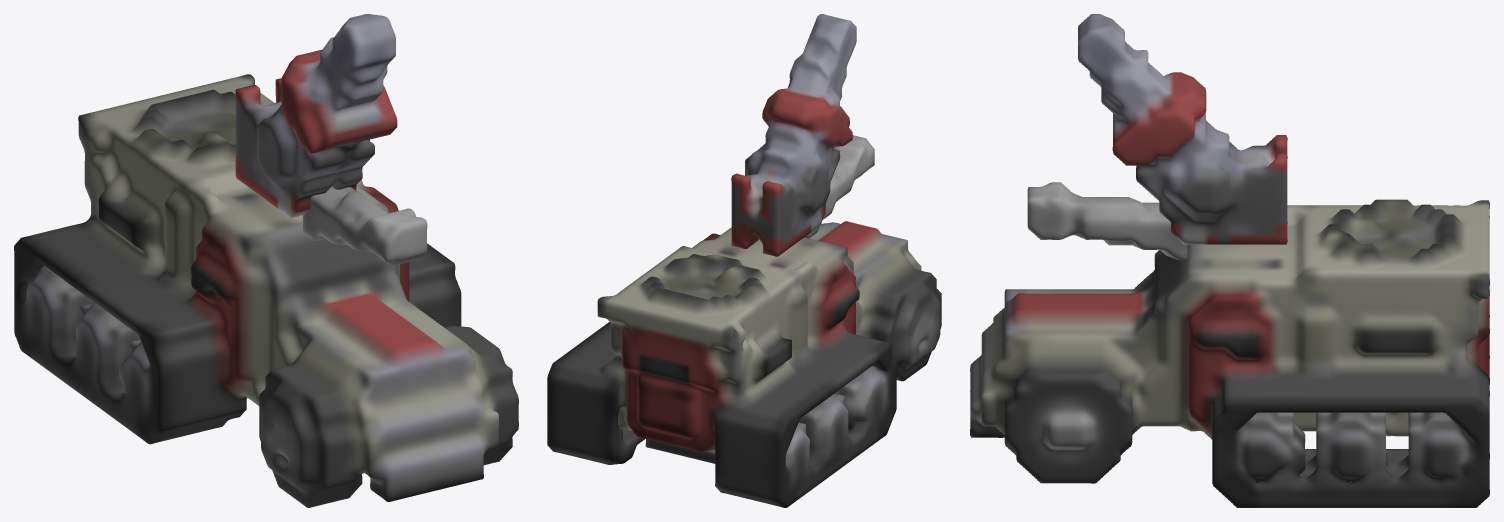
File: flak_track.glb
3 renders of one model, left to right at view 1: azimuth 30°, elevation 25°; view 2: azimuth 150°, elevation 25°; view 3: azimuth 270°, elevation 25°, orthographic. The views are drawn at different scales.
Visible parts, largest first — view 1: flak_track; view 2: flak_track; view 3: flak_track.
Boxes of the visible parts, x1=… form: flak_track: x1=14, y1=14, x2=518, y2=507; flak_track: x1=547, y1=14, x2=941, y2=507; flak_track: x1=970, y1=14, x2=1489, y2=507.
Size of the model in its own units: 2.32 by 3.27 by 3.71.
